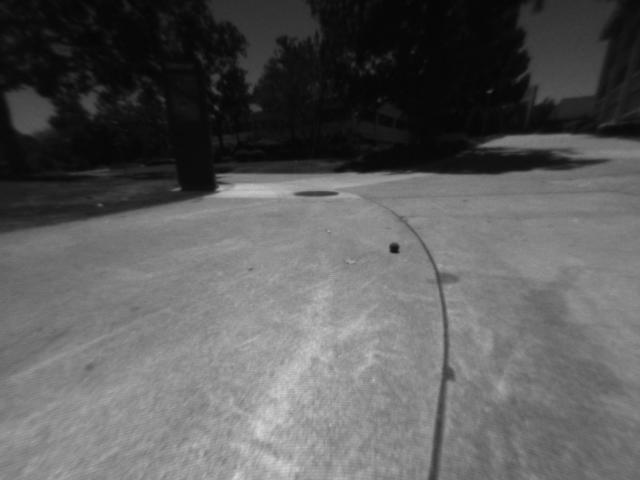dogtoy: (380, 238, 409, 258)
